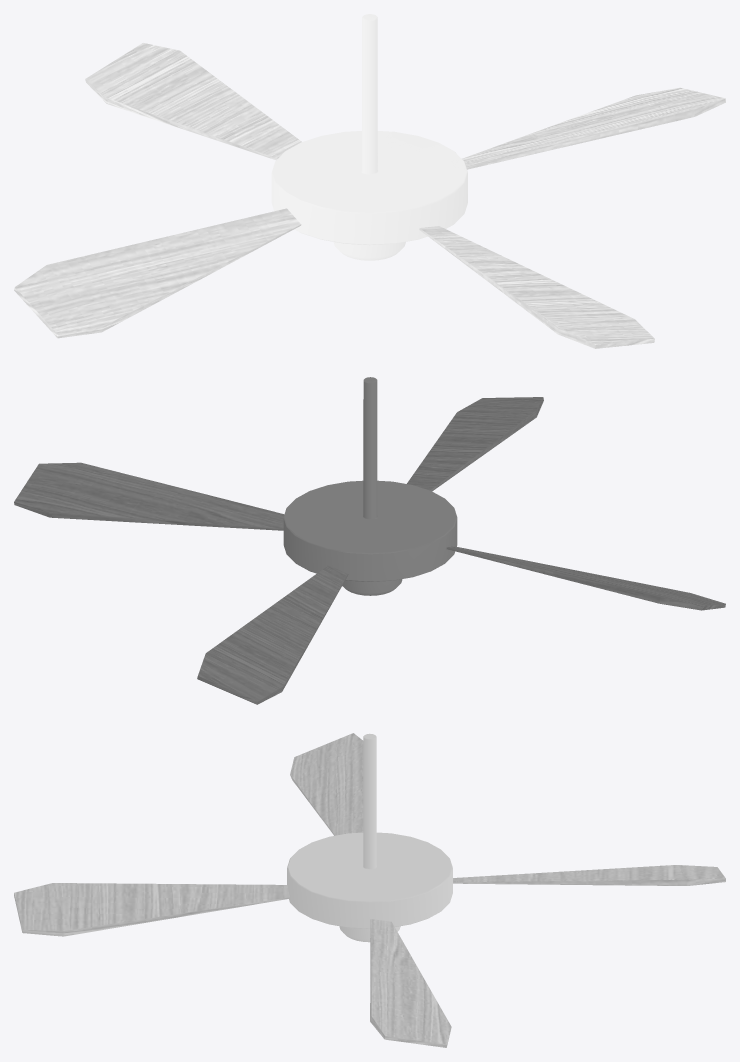
3 renders of one model, top to bottom at view 1: azimuth 30°, elevation 25°; view 2: azimuth 150°, elevation 25°; view 3: azimuth 270°, elevation 25°, orthographic. The views are drawn at different scales.
Parts seen in each view (by area): view 1: FP217:Cylinder.131_d2d46099; view 2: FP217:Cylinder.131_d2d46099; view 3: FP217:Cylinder.131_d2d46099.
Boxes of the visible parts, x1,y1,x2,y2 form: FP217:Cylinder.131_d2d46099: (14, 14, 725, 348); FP217:Cylinder.131_d2d46099: (14, 377, 725, 704); FP217:Cylinder.131_d2d46099: (14, 733, 725, 1047).
Bounding box in the file's own units: 1.19 × 0.3591 × 1.19.
